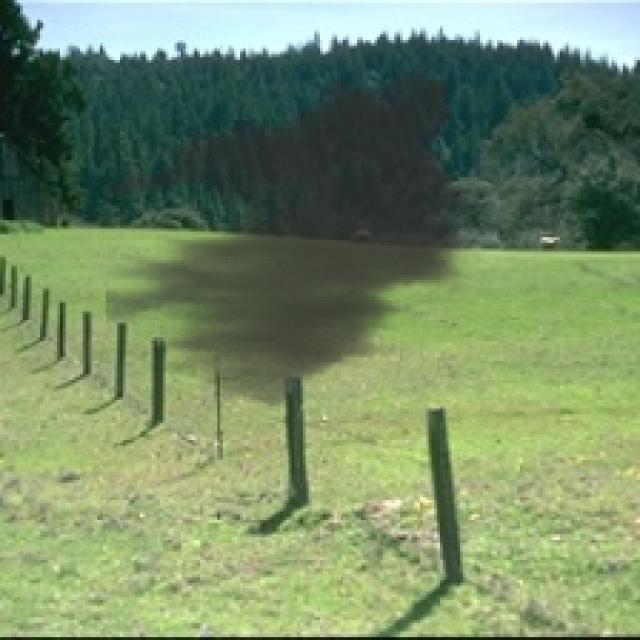smoke: (106, 51, 488, 420)
